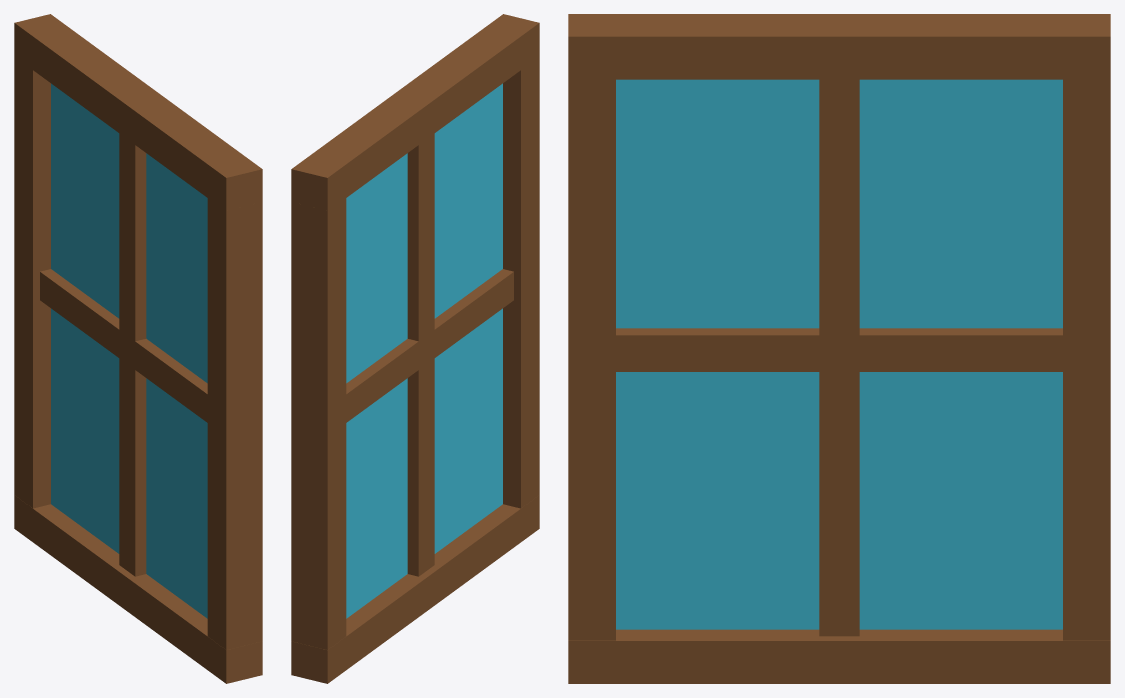
Rendered from janela.fbx.
3 renders of one model, left to right at view 1: azimuth 30°, elevation 25°; view 2: azimuth 150°, elevation 25°; view 3: azimuth 270°, elevation 25°, orthographic. The views are drawn at different scales.
Visible parts, largest first — view 1: Cube.012, Plane; view 2: Cube.012, Plane; view 3: Plane, Cube.012.
Boxes of the visible parts, x1,y1,x2,y2 form: Cube.012: (14,14,262,683); Plane: (51,83,207,618); Cube.012: (291,14,539,683); Plane: (346,83,502,618); Plane: (616,79,1062,629); Cube.012: (568,14,1110,683).
Bounding box in the file's own units: 21.85 × 292 × 222.
